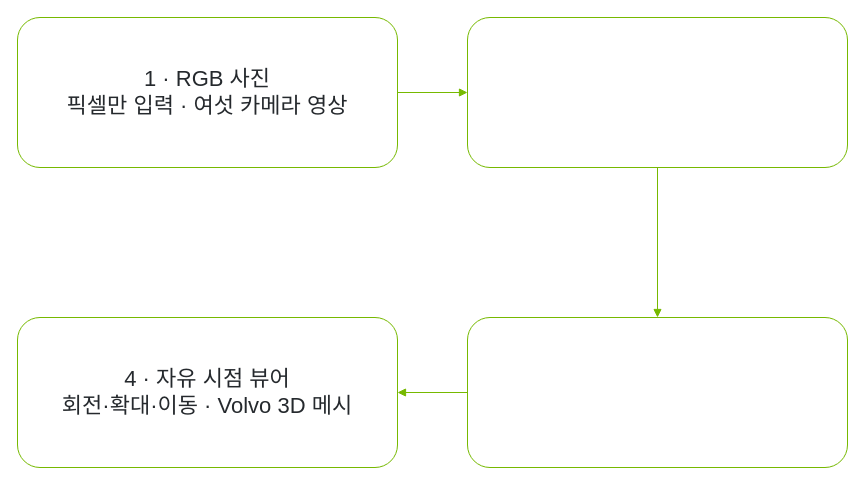
Image size: 865x485. Some labels were removed from this diagram. The shapes that lost their labels are listed below. From the top down, each one's centre as x and y in pixels, then its label:
(657,92): 2 · COLMAP 카메라 K·자세·3D 점 추정
(657,392): 3 · NVIDIA 3DGUT 여러 사진에 맞춰 3D 장면 학습
